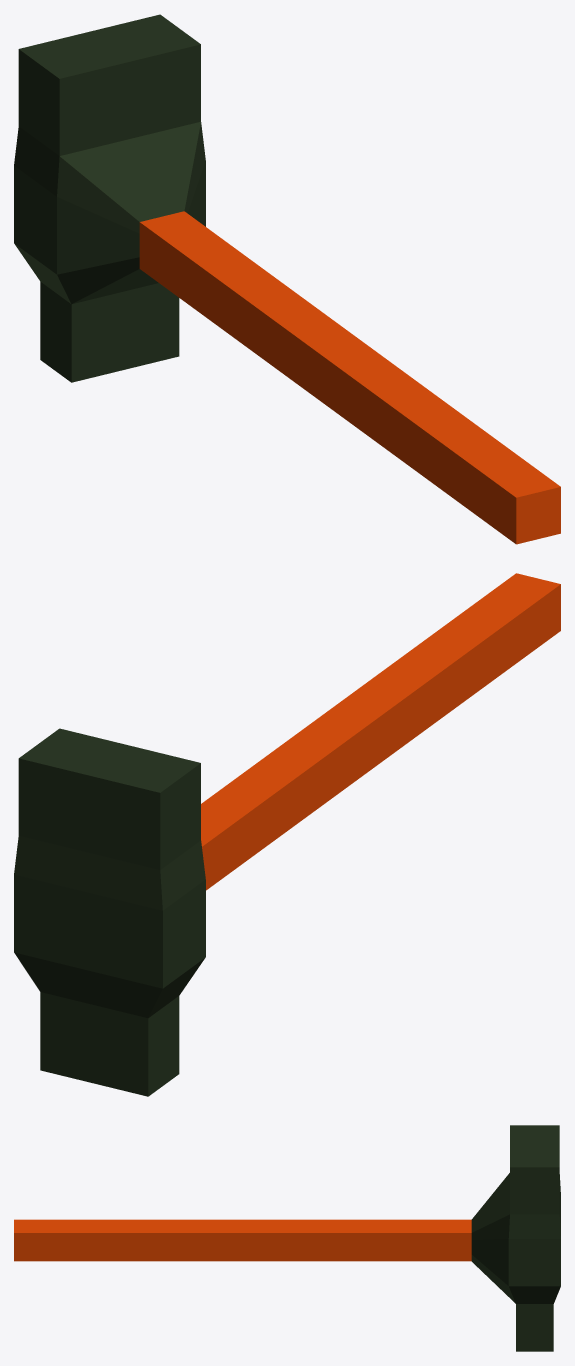
File: kickhammer123.fbx
The picture shows the model from 3 angles, top to bottom: view 1: azimuth 30°, elevation 25°; view 2: azimuth 150°, elevation 25°; view 3: azimuth 270°, elevation 25°; orthographic projection. The views are drawn at different scales.
Visible parts, largest first — view 1: Cube; view 2: Cube; view 3: Cube.
Part boxes in pixels (x1=…): Cube: x1=14, y1=14, x2=560, y2=544; Cube: x1=14, y1=573, x2=560, y2=1096; Cube: x1=14, y1=1125, x2=560, y2=1351.
Size of the model in its own units: 200 by 400 by 1048.
